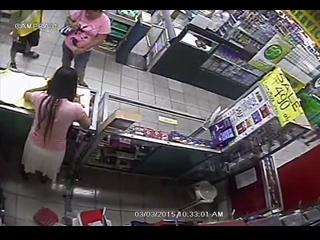Normal: (21, 66, 92, 188), (60, 10, 112, 88), (8, 10, 42, 70)
